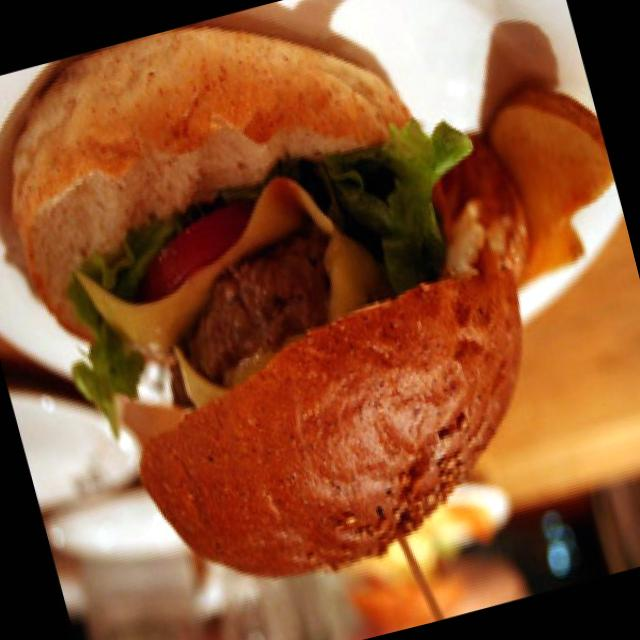Hamburger: (0, 0, 595, 640)
